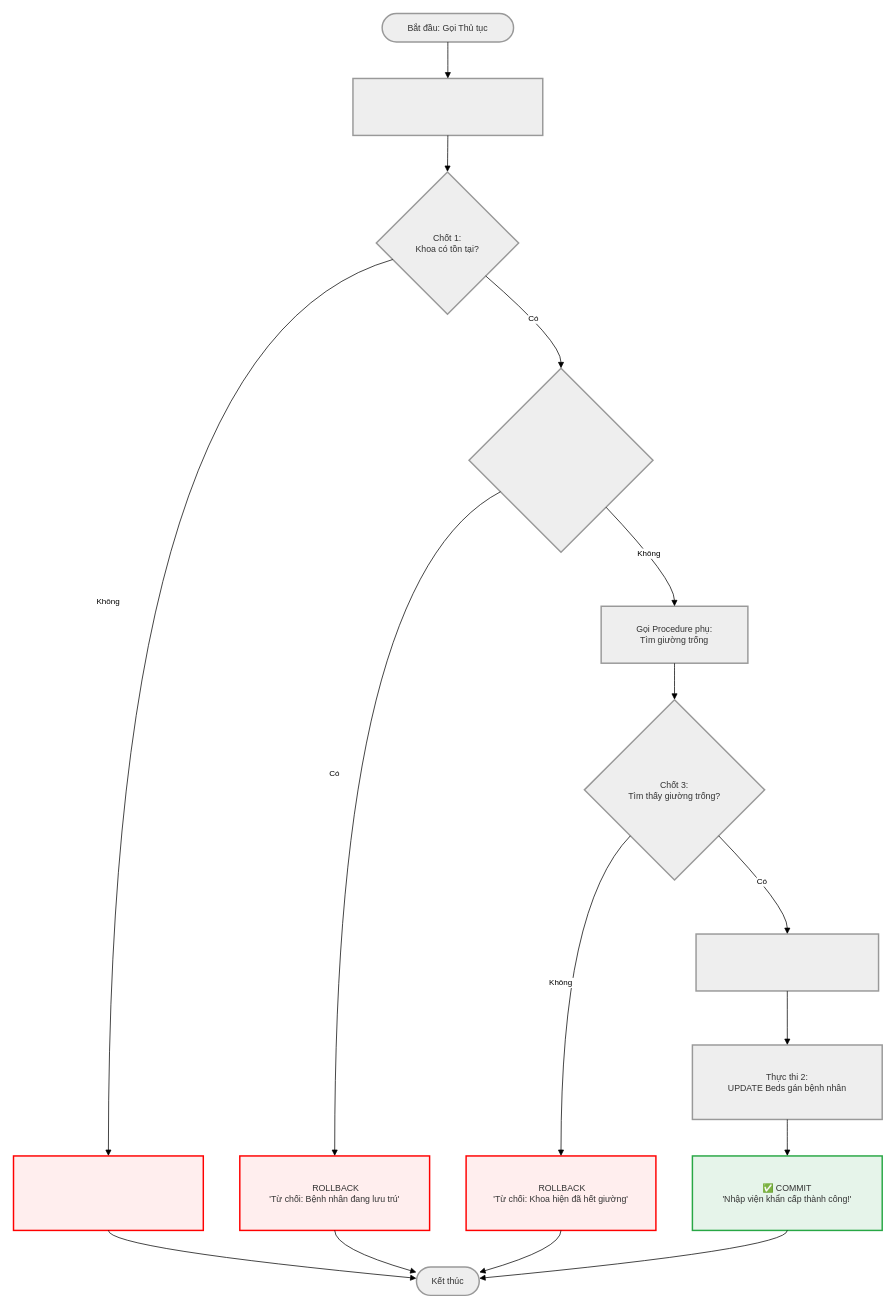
The diagram is 895 pixels wide and 1308 high, and some of its shapes have lost their labels. Here are the shapes that lost their labels. From the top down, the centre of each, then its label:
At pixel 447 106: "Kích hoạt: START TRANSACTION".
At pixel 560 460: "Chốt 2: Bệnh nhân đang nội trú?".
At pixel 787 962: "Thực thi 1: INSERT INTO Appointments".
At pixel 108 1193: "ROLLBACK 'Từ chối: Khoa không tồn tại'".
